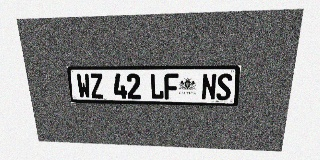2: (126, 73, 141, 99)
4: (113, 73, 127, 99)
F: (164, 73, 178, 100)
L: (150, 73, 164, 99)
N: (201, 73, 217, 100)
S: (216, 73, 232, 100)
W: (76, 74, 91, 98)
Z: (89, 74, 104, 99)
